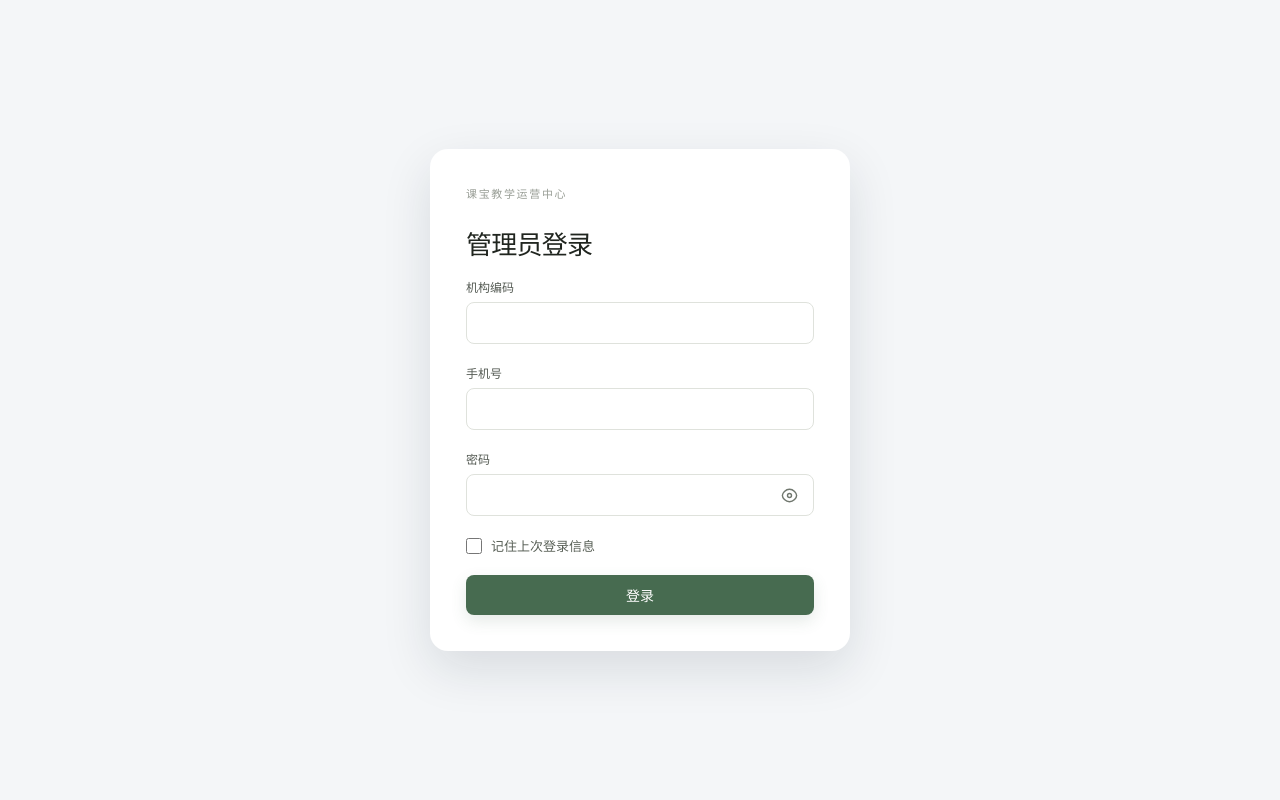
Scenario: 管理后台 › 支持显示密码并记住登录信息
Type "DEMO" into the field labelled "机构编码" at {"x": 640, "y": 323}, box [466,302,814,344]
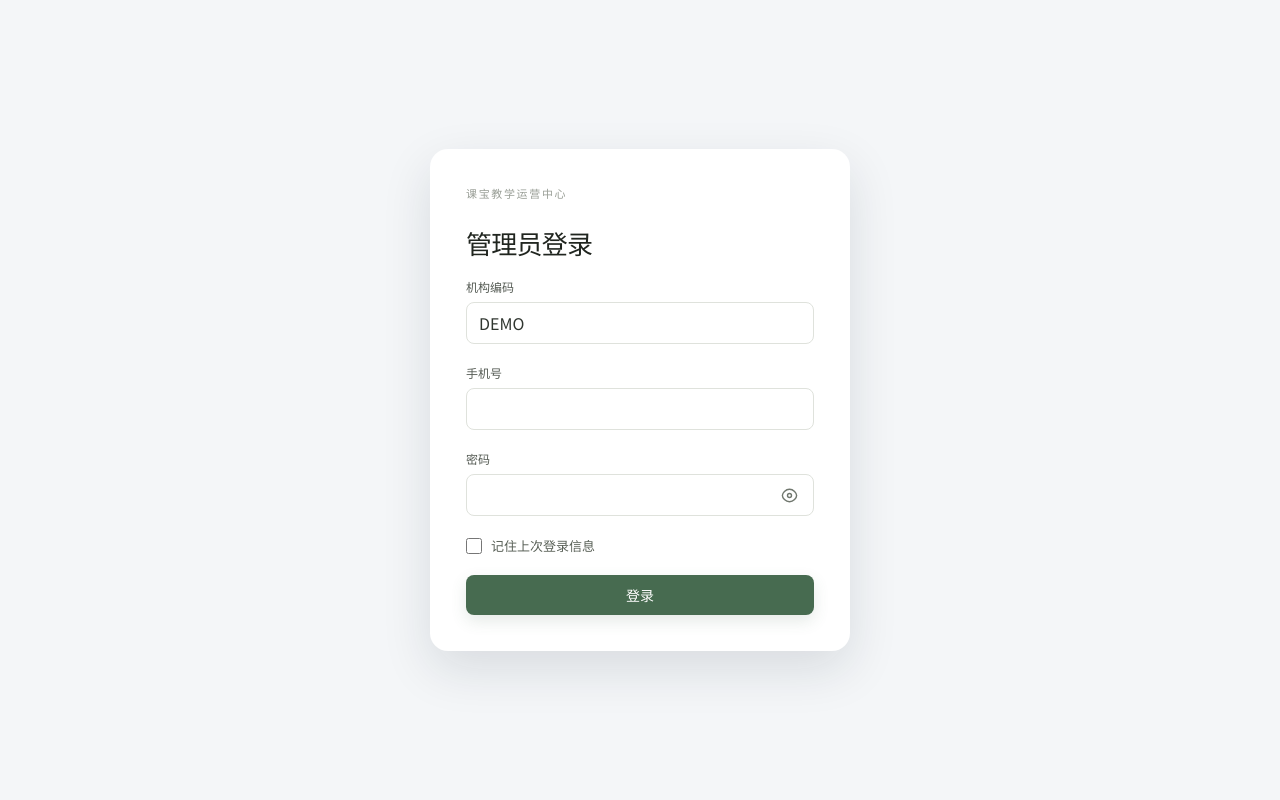
Type "13800000001" into the field labelled "手机号" at {"x": 640, "y": 409}, box [466,388,814,430]
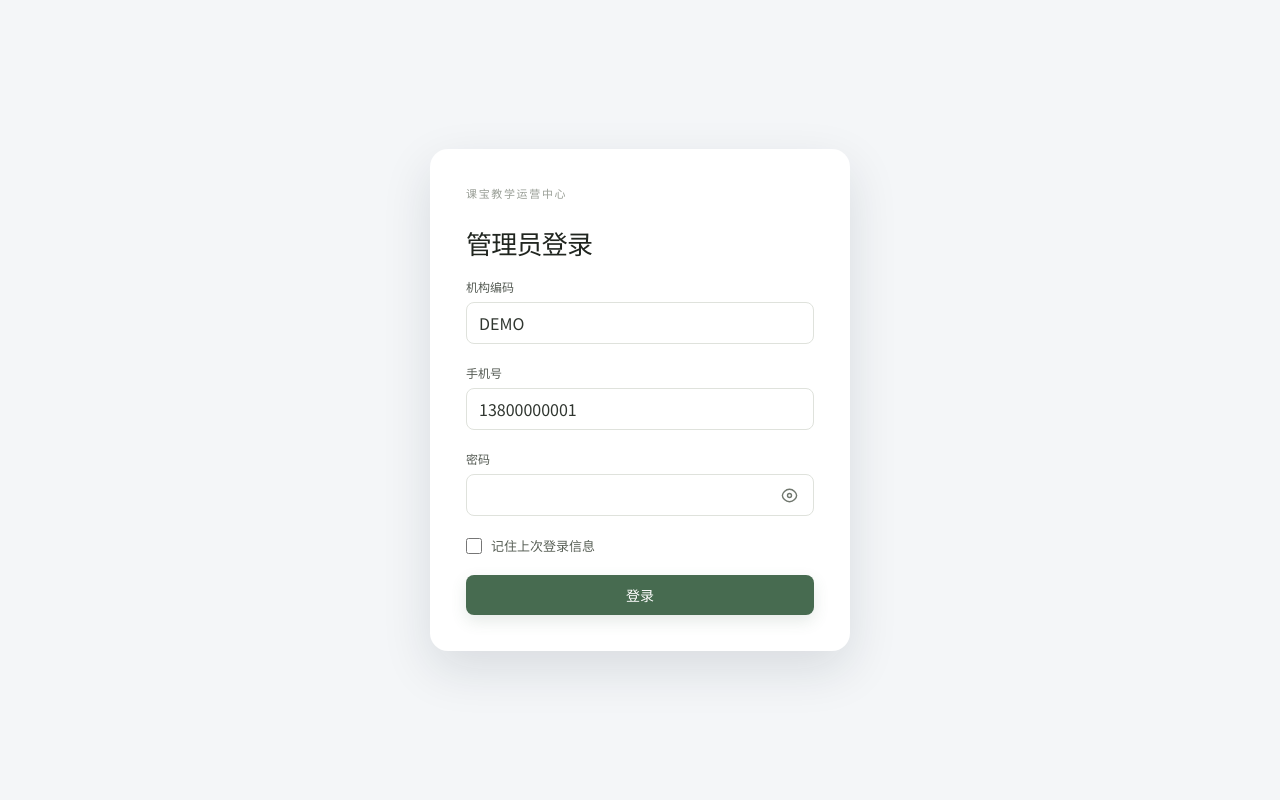
Type "Admin123!" into the password field labelled "密码" at {"x": 640, "y": 495}, box [466,474,814,516]
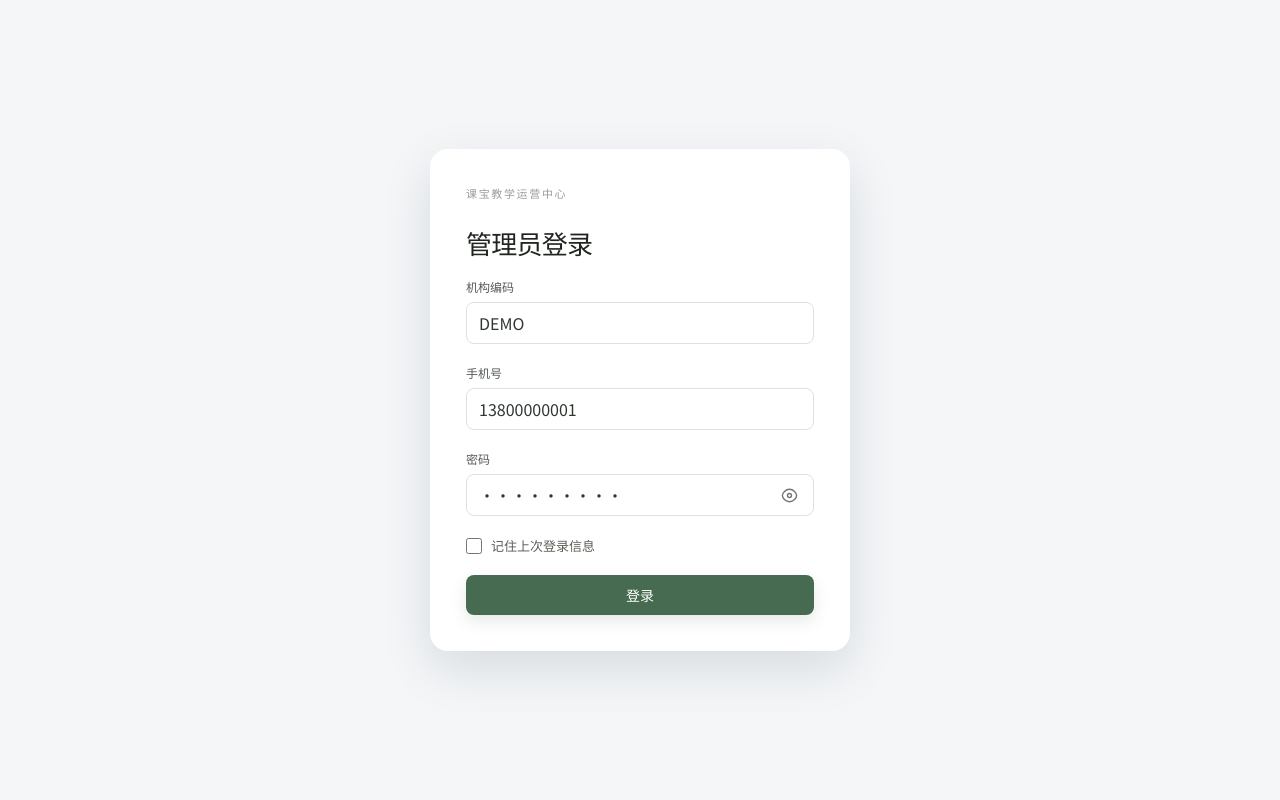
Click the button named "显示密码" at {"x": 789, "y": 495}, box [772,478,806,512]
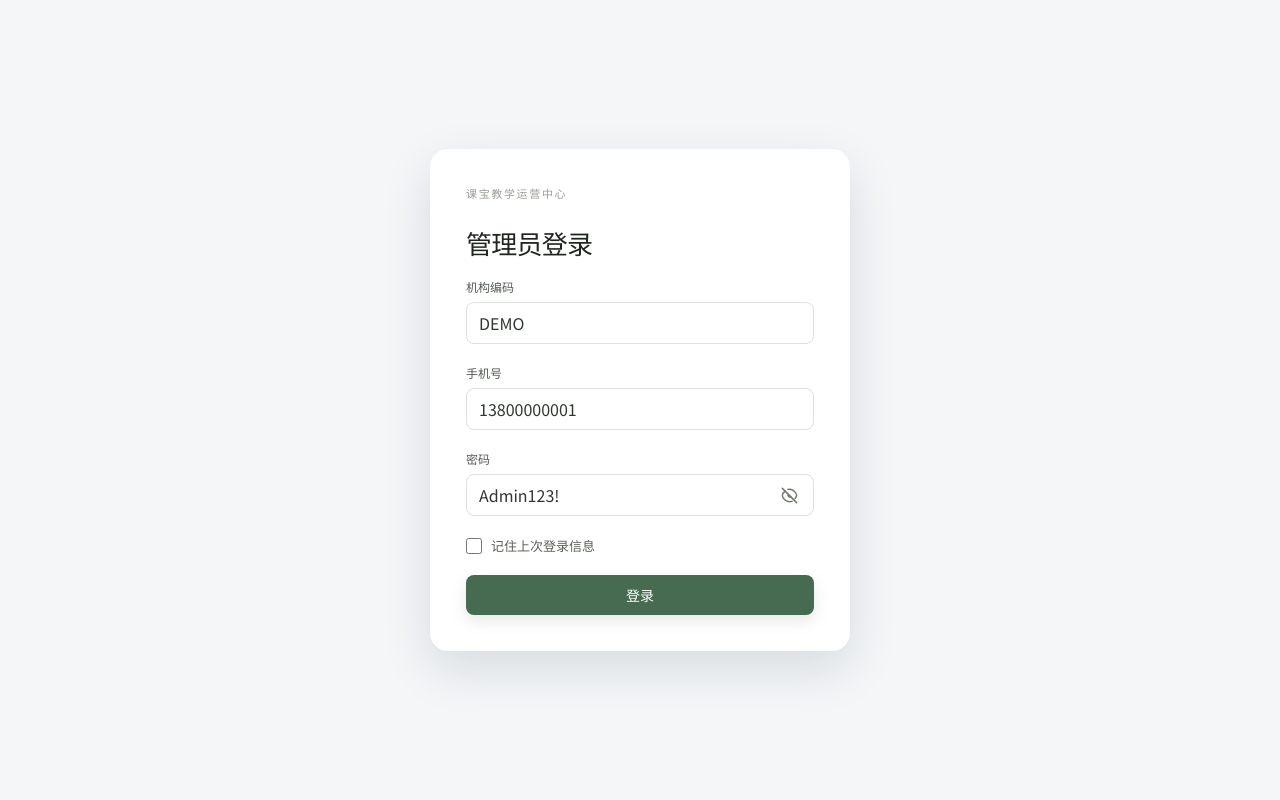
Check: the field labelled "密码" shows its text, box [466,474,814,516]
Click the checkbox labelled "记住上次登录信息" at {"x": 474, "y": 546}, box [466,538,482,554]
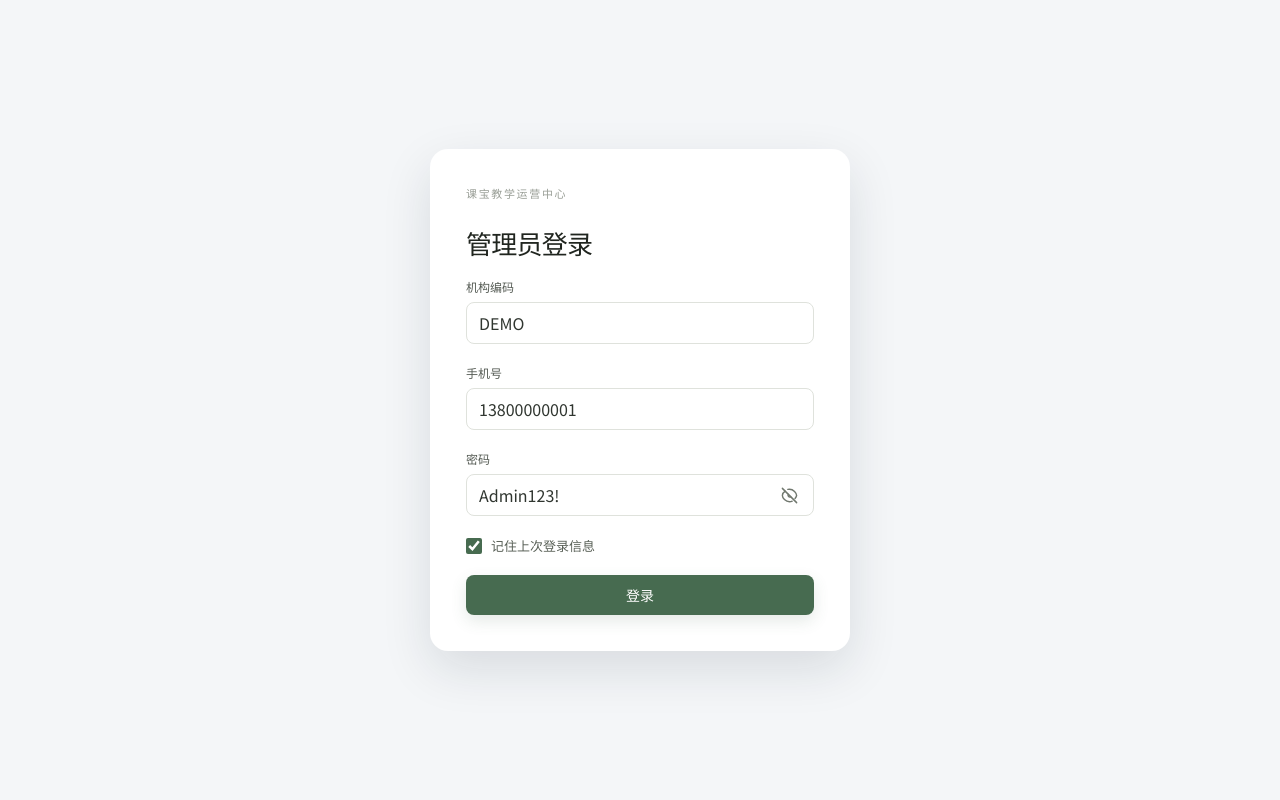
Click the button "登录" at {"x": 640, "y": 595}, box [466,575,814,615]
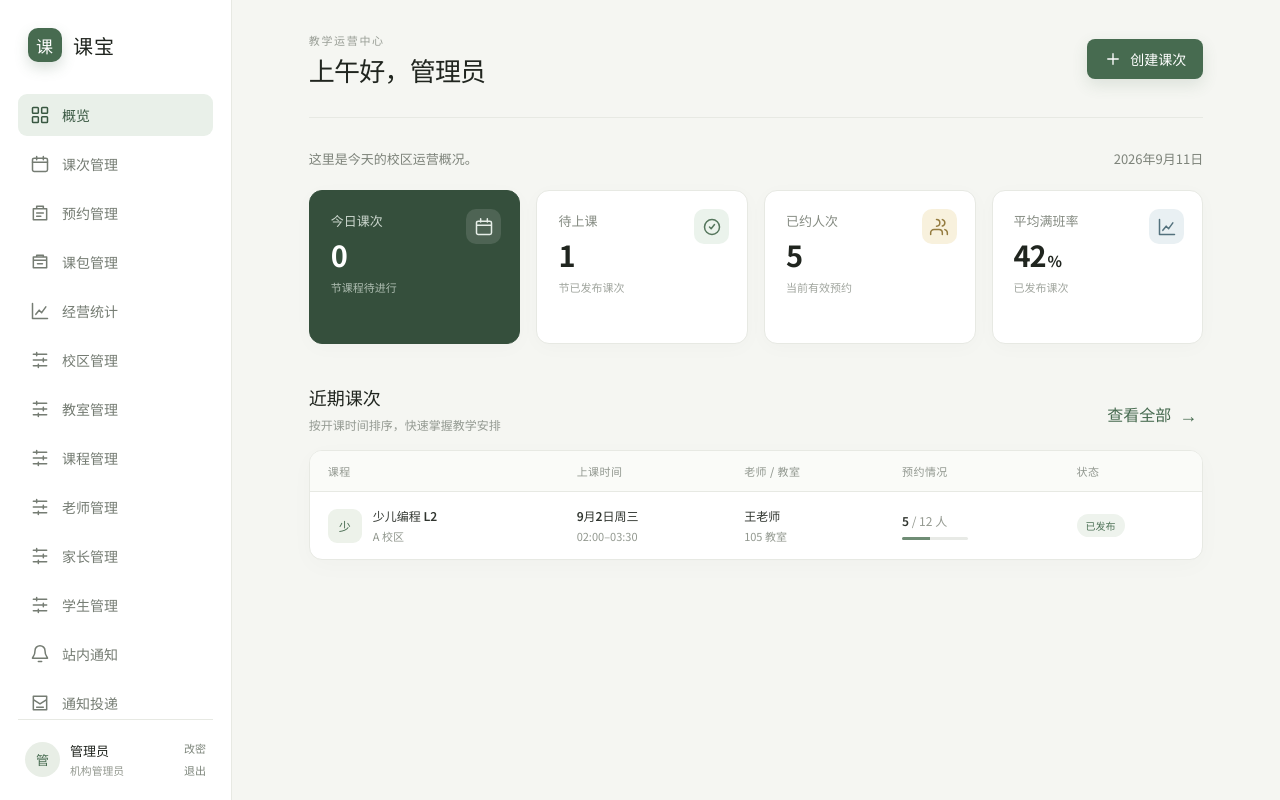
Check: the text "少儿编程 L2" is shown, box [373,507,437,524]
